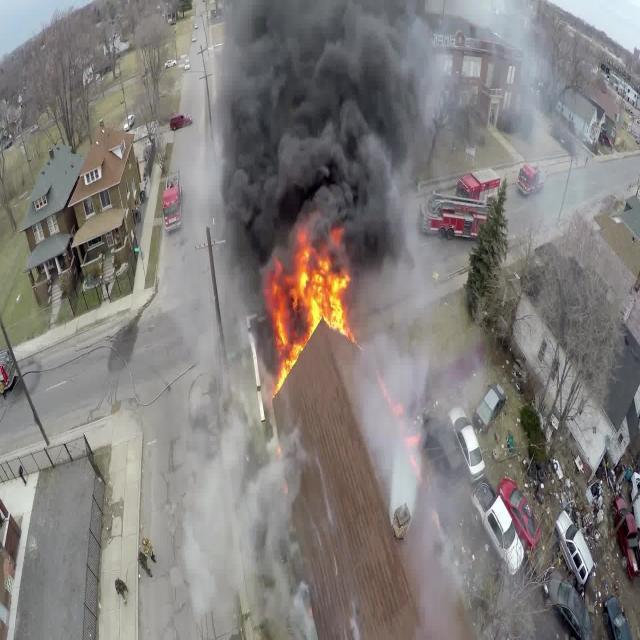Fire: (261, 230, 357, 395)
Smoke: (204, 0, 546, 226), (358, 292, 440, 542)
